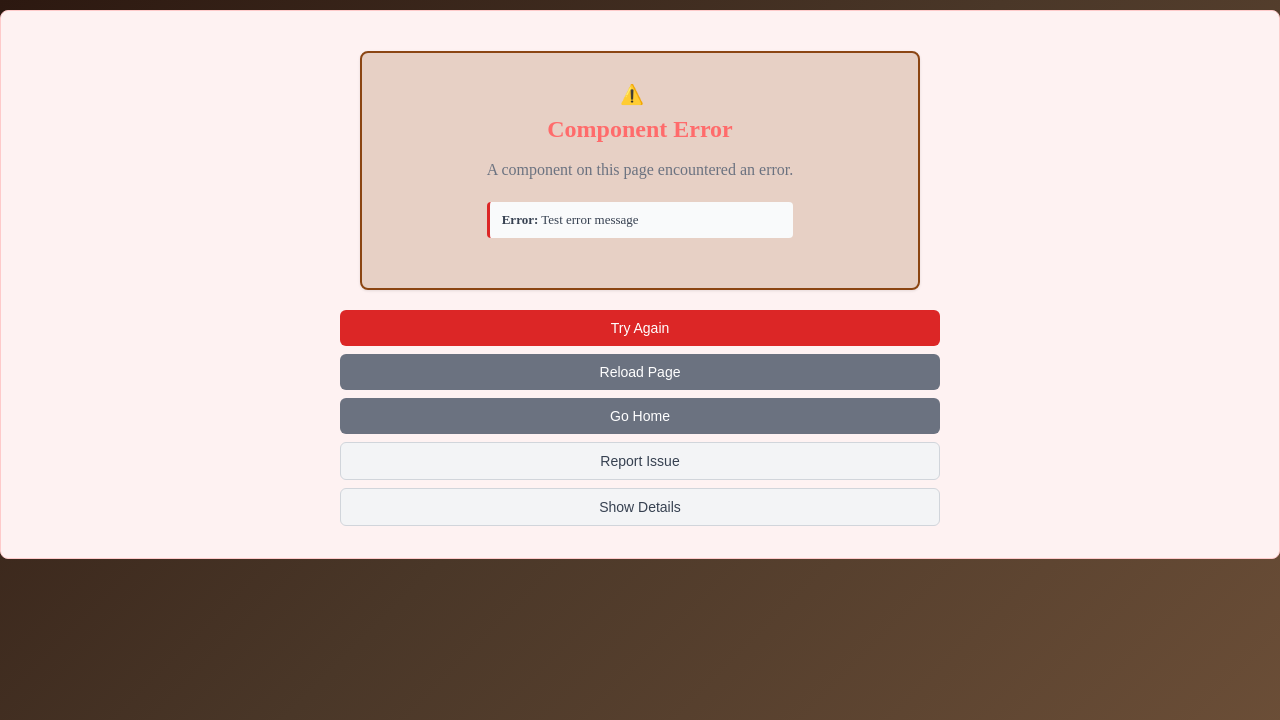
Test: EnhancedErrorBoundary › Error Details › hides details when hide details button is clicked
// Show details first
Step 1. Click the button "Show Details" → x=640, y=506, box [340, 488, 940, 526]
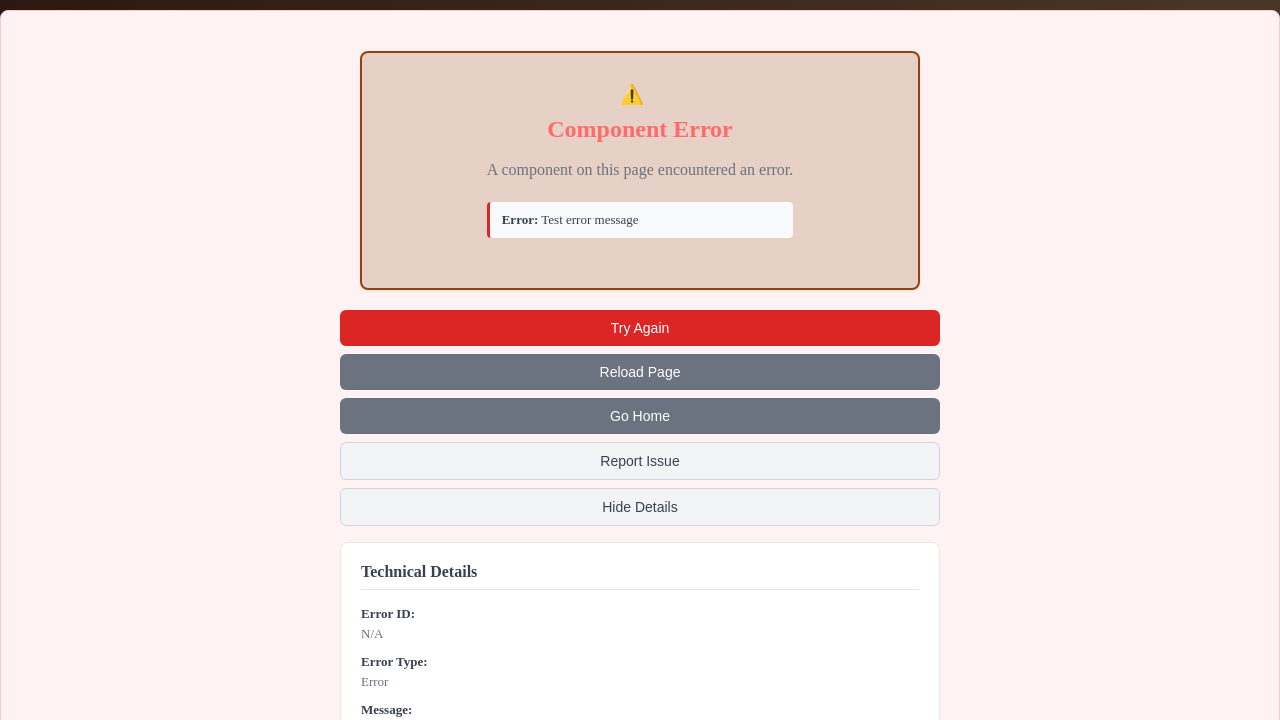
Expected: the heading "Technical Details" is shown, [361, 562, 919, 590]
// Hide details
Step 2. Click the button "Hide Details" → x=640, y=506, box [340, 488, 940, 526]
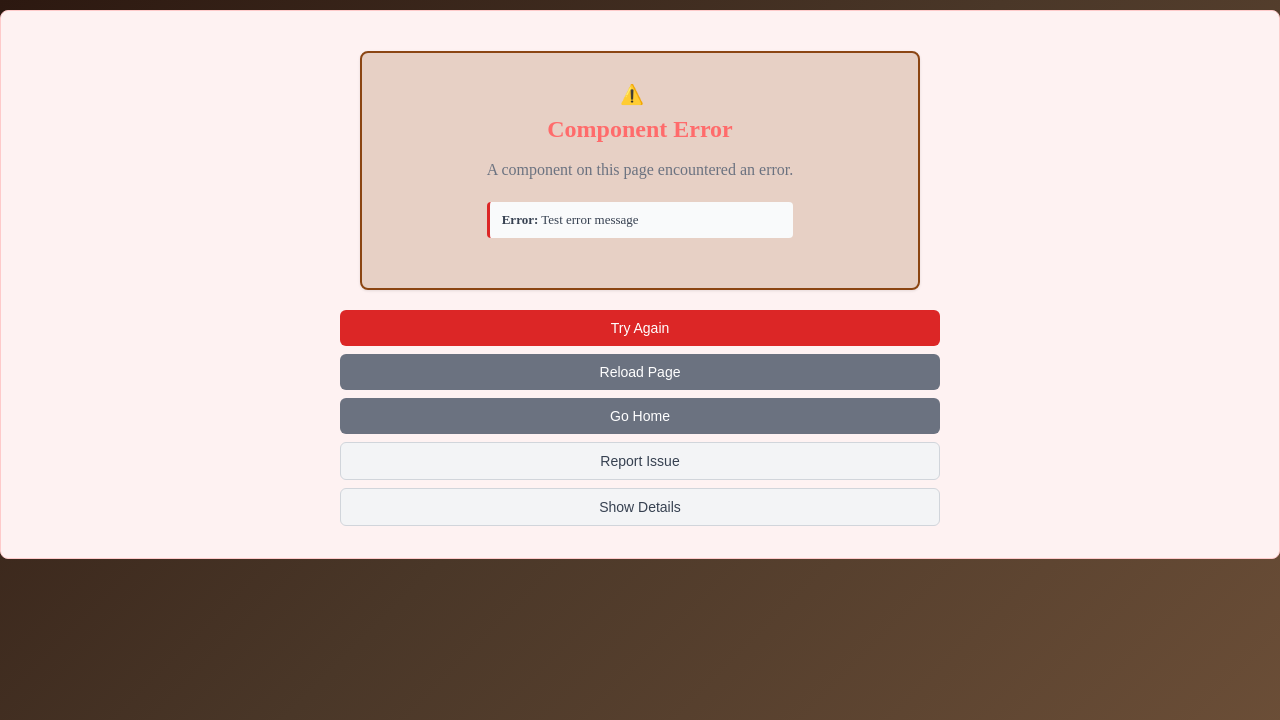
Expected: the heading "Technical Details" is gone
